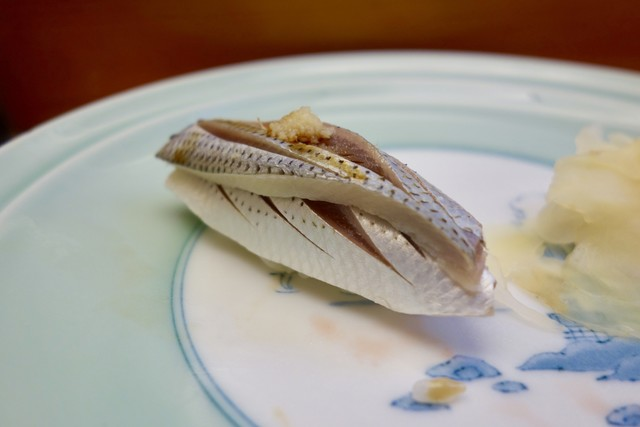spotted-shad: (152, 105, 505, 338)
